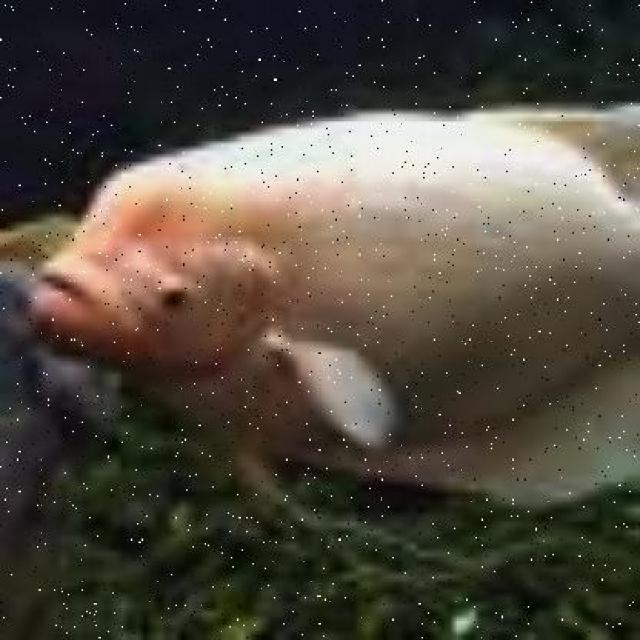gurame: (44, 111, 638, 492)
